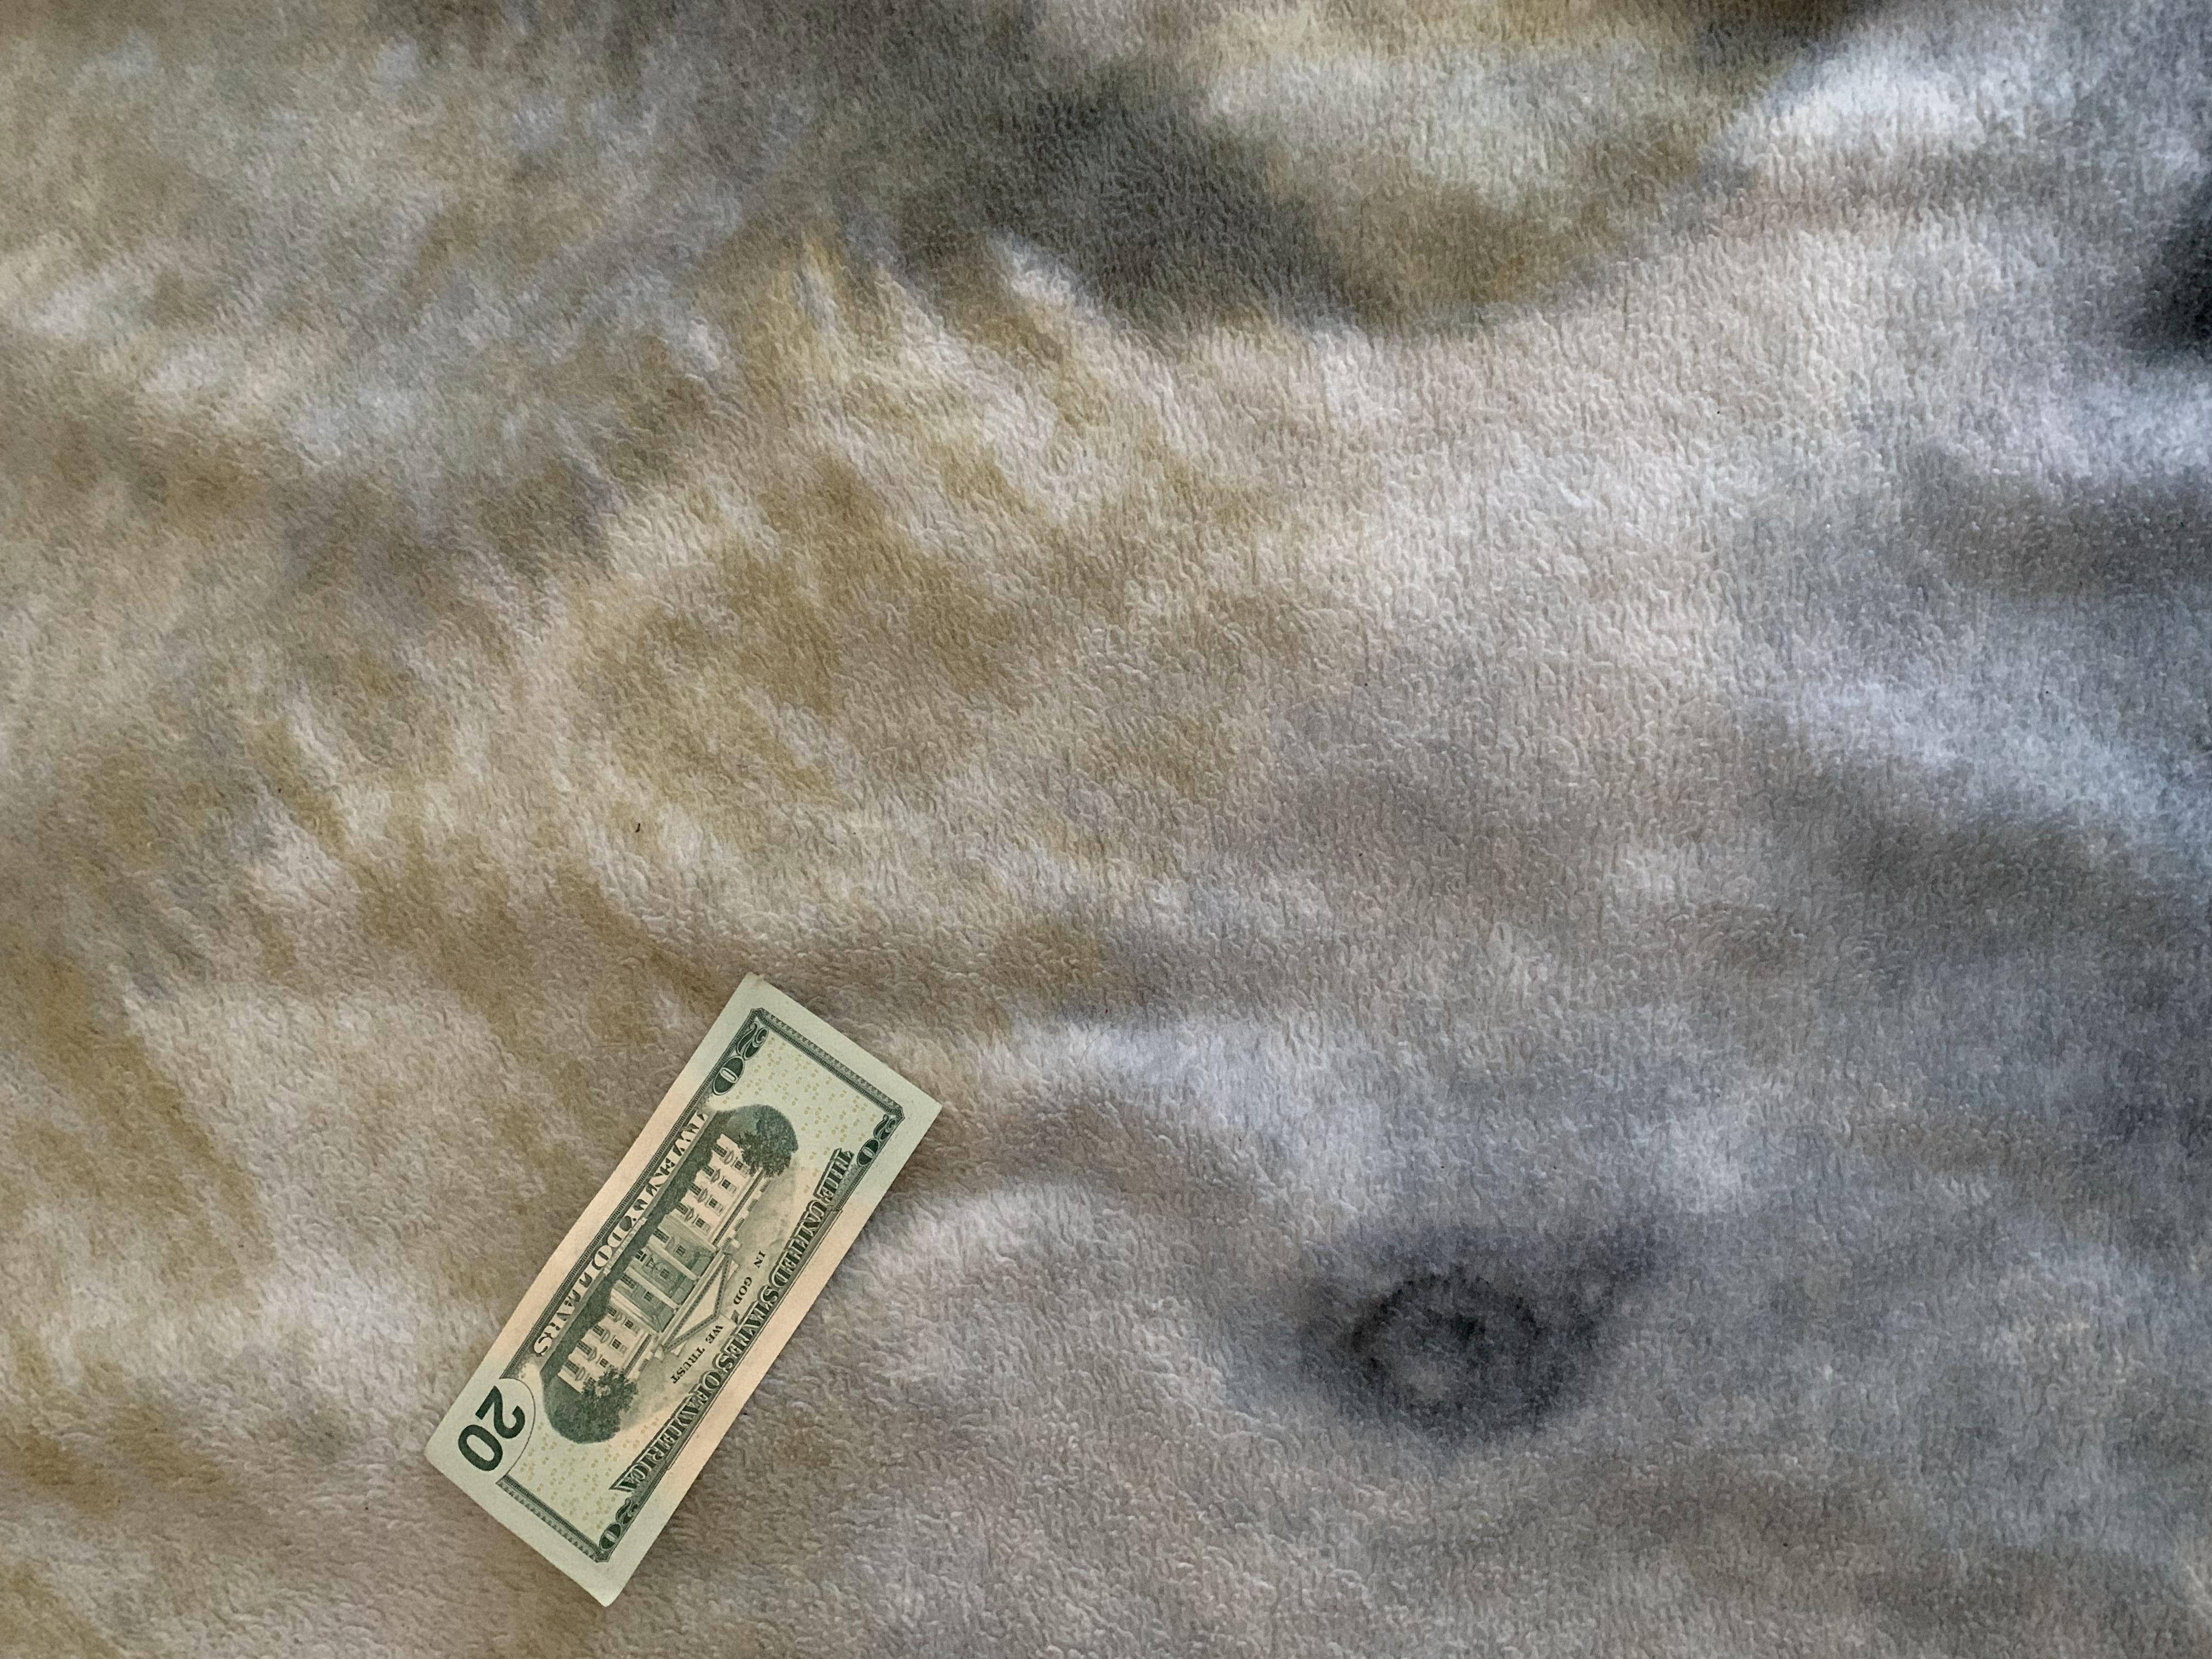TwentyBill: (420, 967, 951, 1612)
